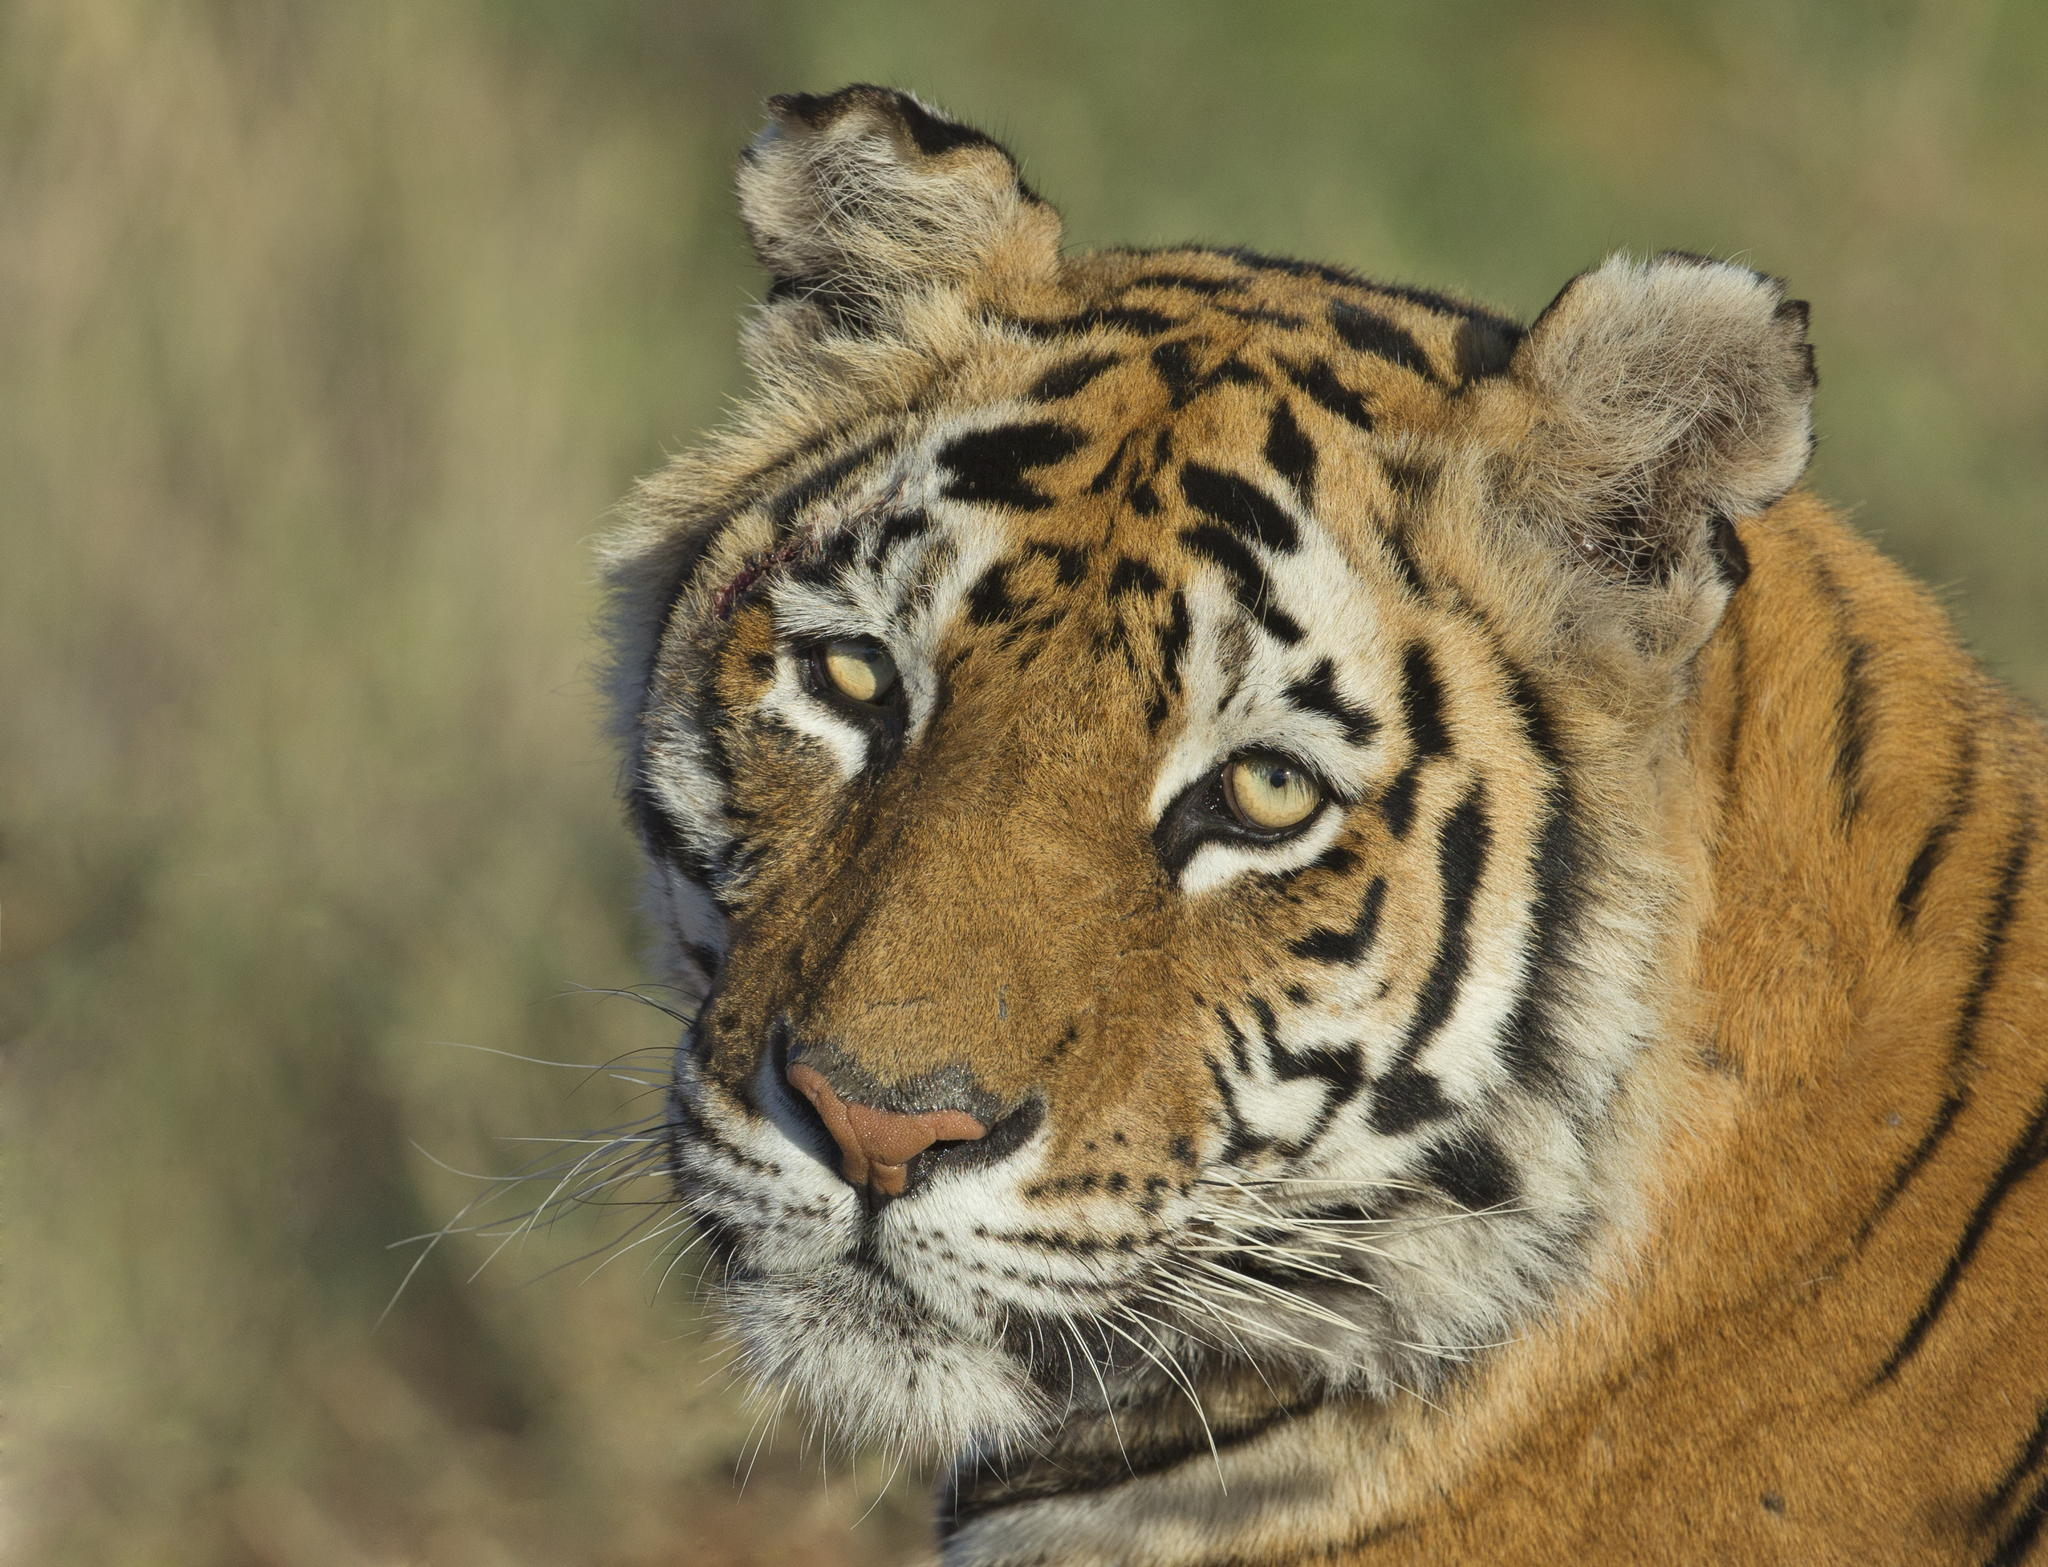tiger: (634, 104, 1877, 1491)
